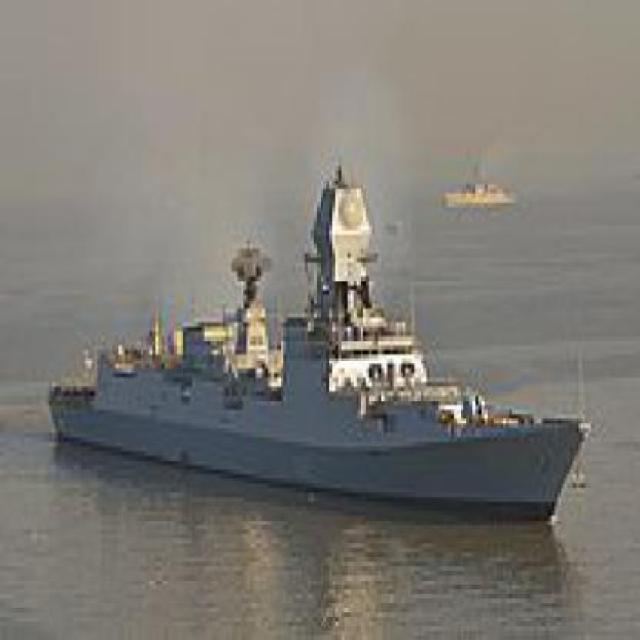warship2: (40, 130, 614, 544), (440, 148, 531, 222)
